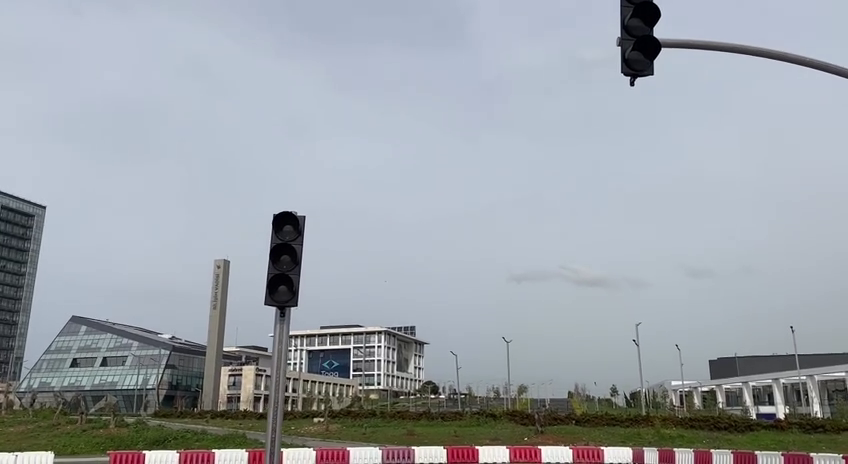trafficLight: (262, 208, 309, 314), (614, 1, 665, 89)
